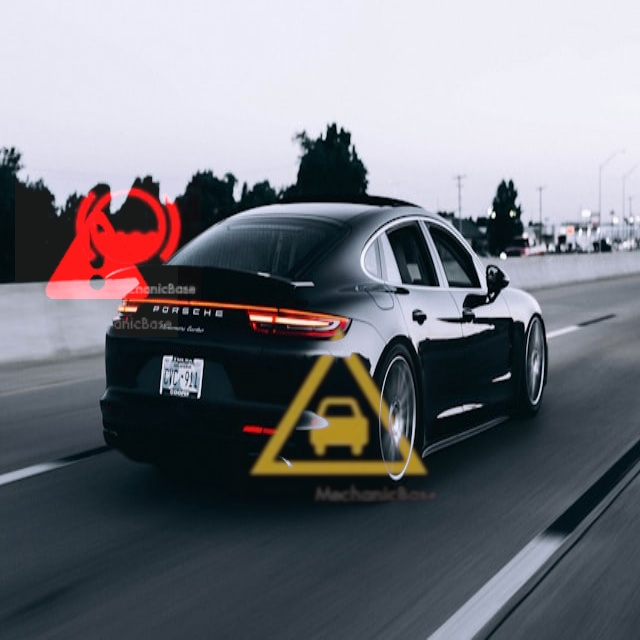symbol: (231, 297, 446, 512), (15, 174, 178, 337), (54, 154, 201, 301)
